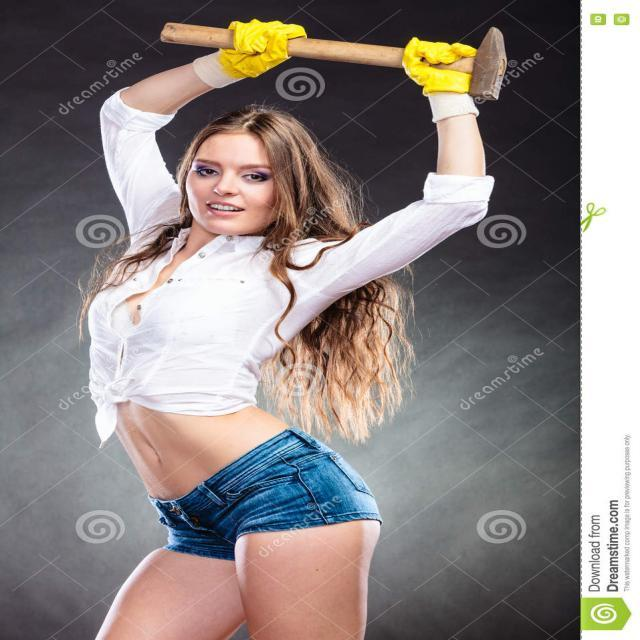hammer: (151, 18, 514, 104)
